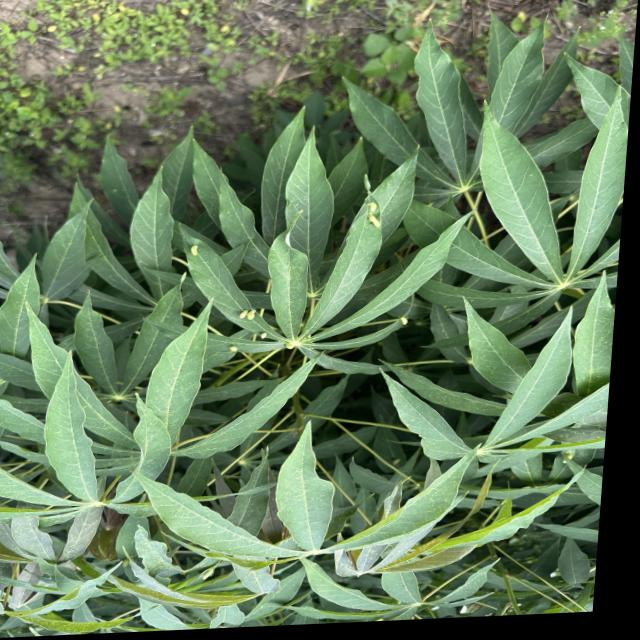Mosca: (364, 191, 388, 235), (395, 309, 417, 341), (186, 236, 207, 263), (233, 304, 265, 320), (223, 335, 242, 361), (257, 326, 274, 343), (387, 453, 403, 469)
